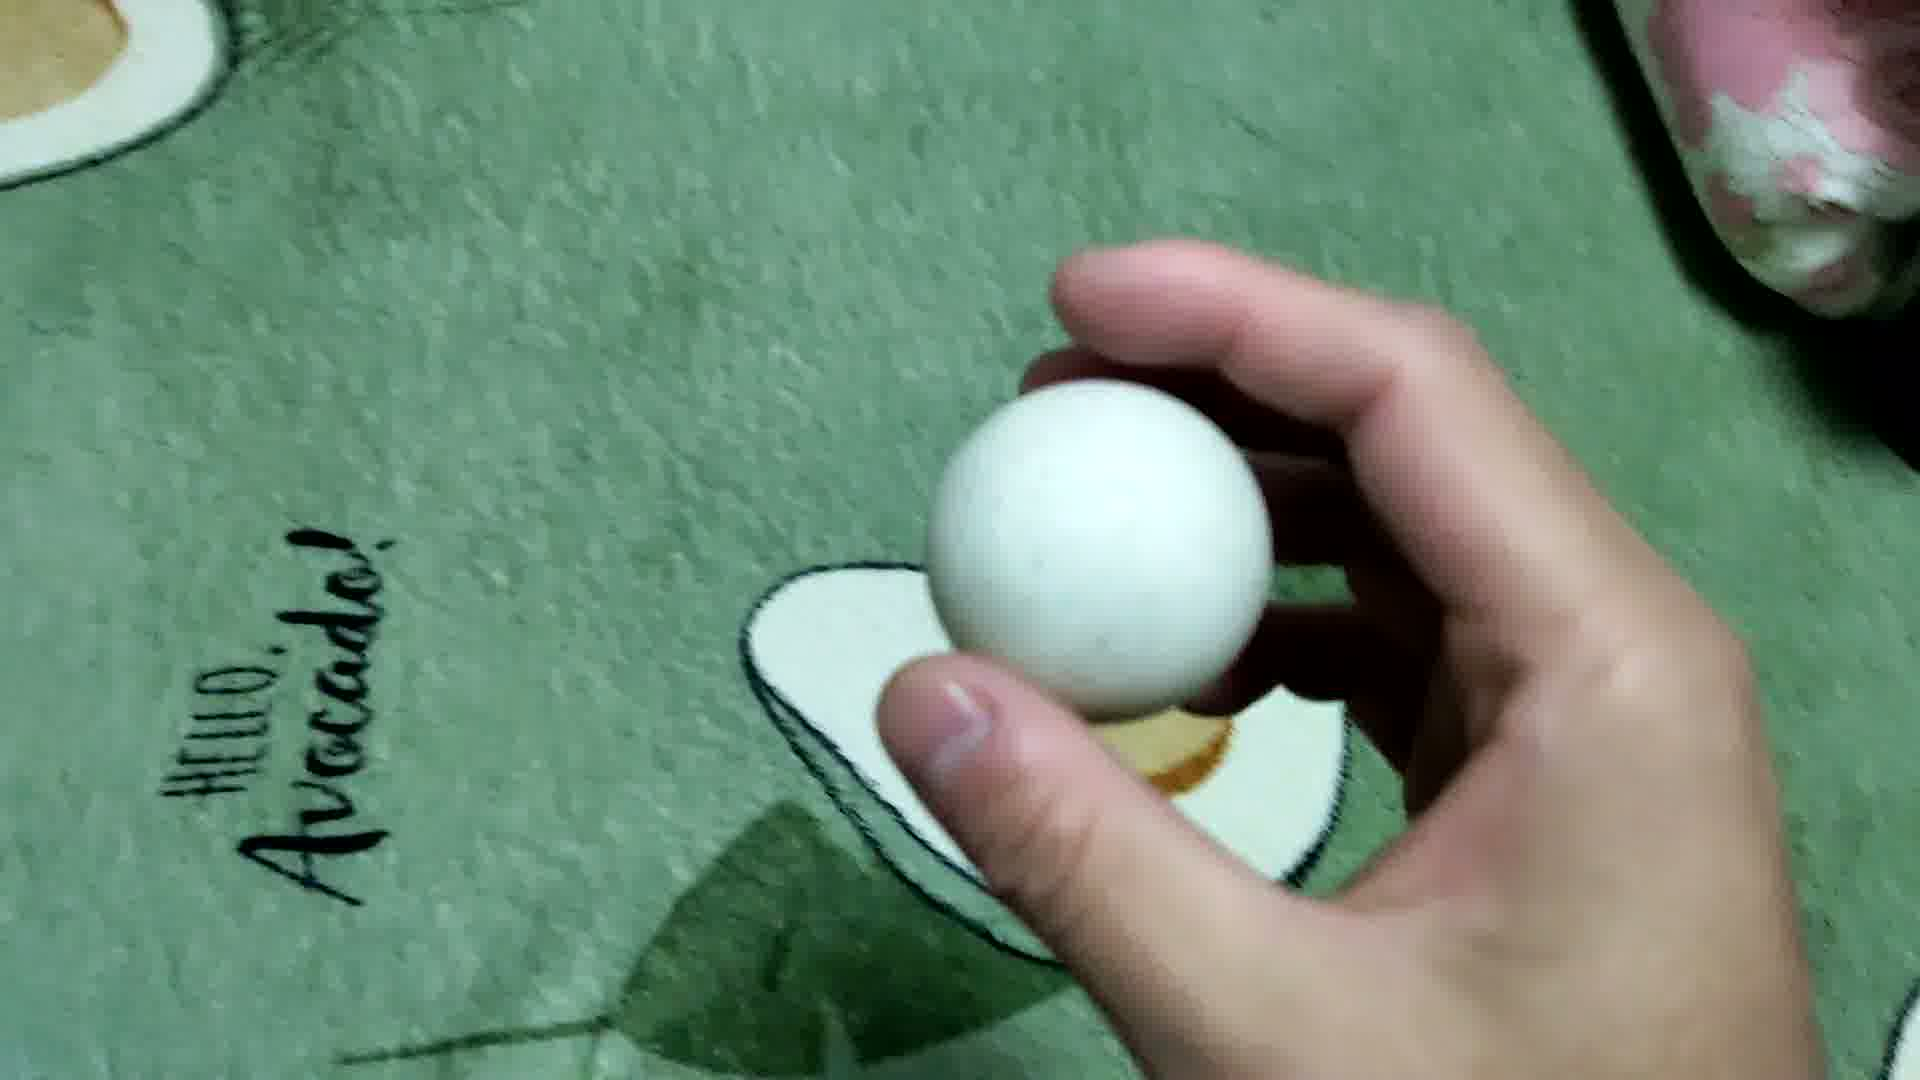Ball: (924, 377, 1265, 716)
